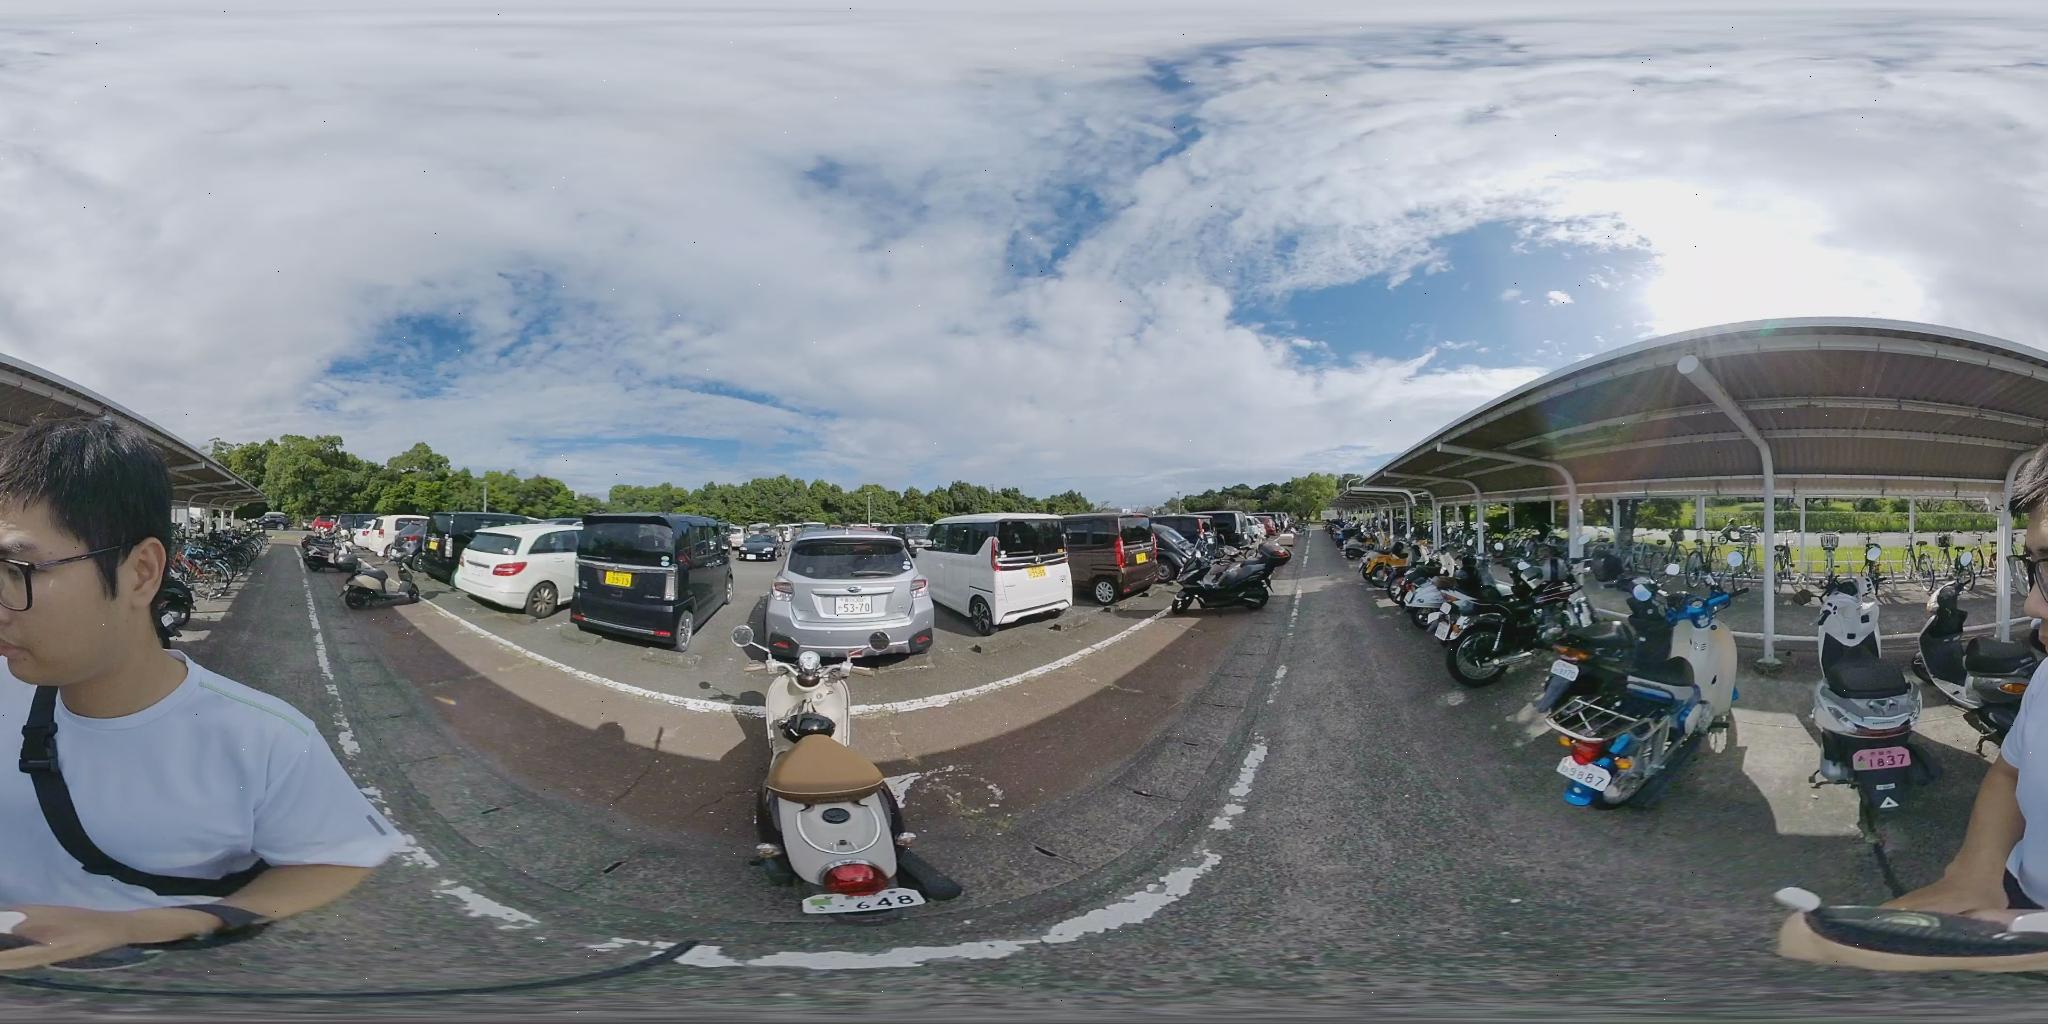car: (771, 519, 930, 664), (580, 509, 730, 653), (912, 516, 1075, 631), (457, 521, 603, 624), (741, 532, 781, 560)
